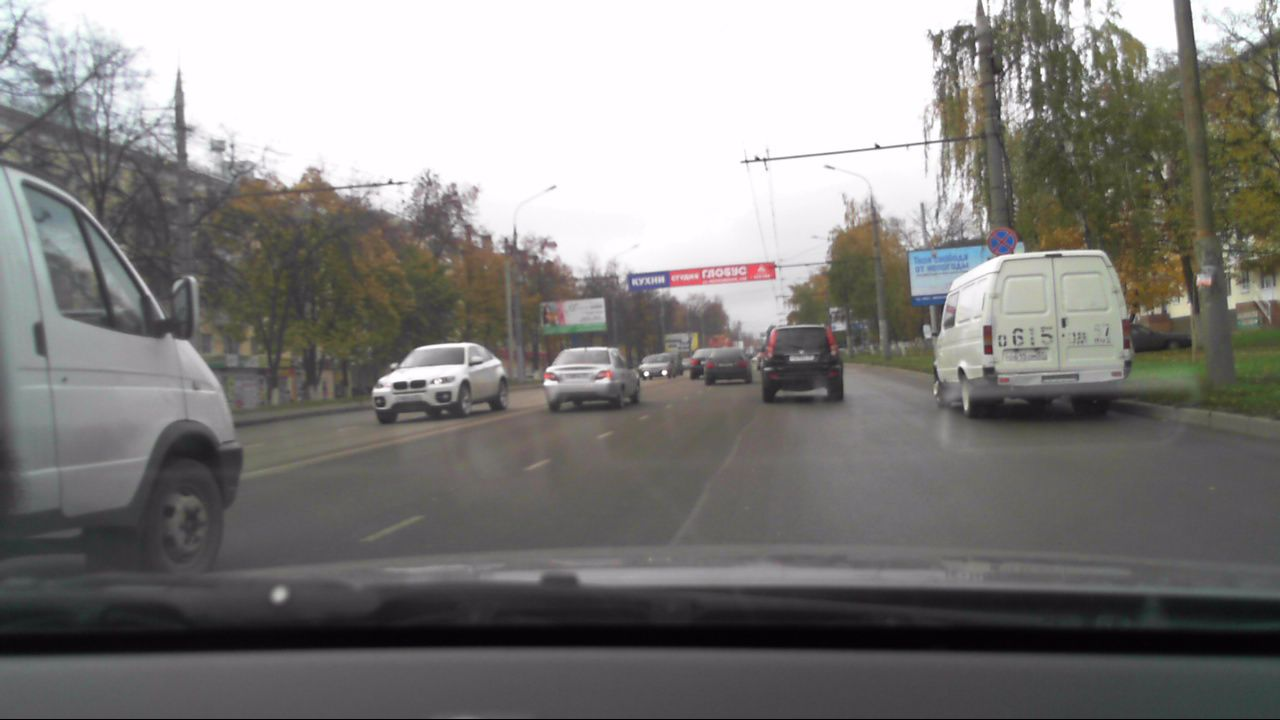No Parking: (984, 225, 1017, 257)
